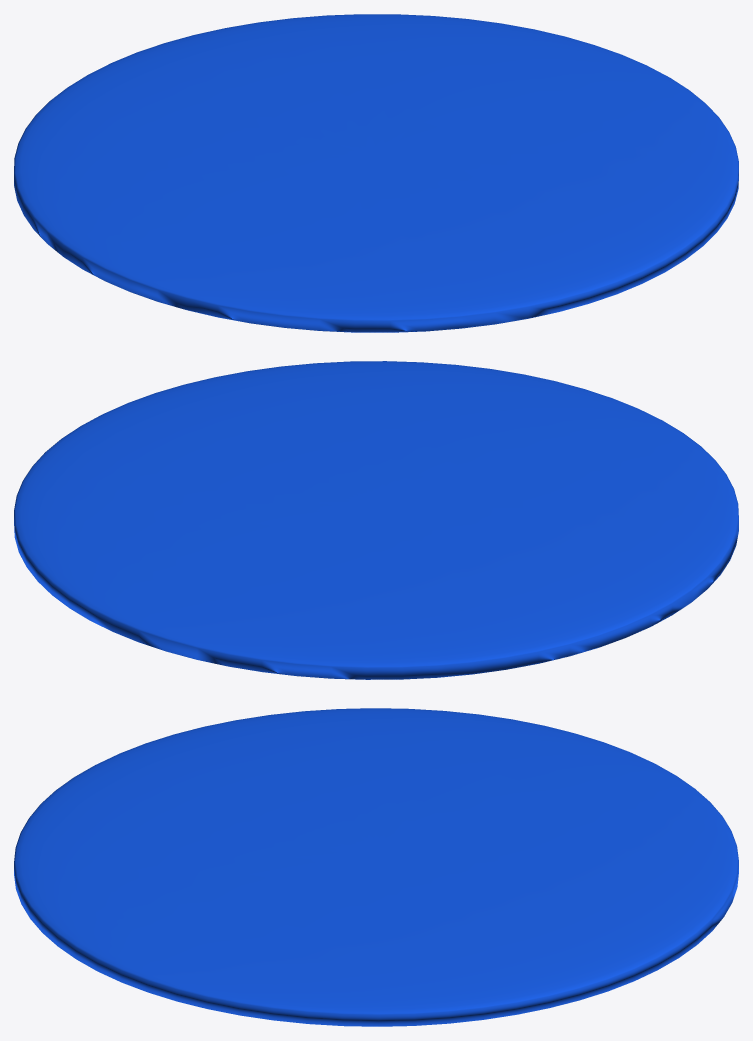
File: water.glb
3 views of the same model, one above another, from view 1: azimuth 30°, elevation 25°; view 2: azimuth 150°, elevation 25°; view 3: azimuth 270°, elevation 25° (orthographic).
Parts seen in each view (by area): view 1: Sphere.013; view 2: Sphere.013; view 3: Sphere.013.
Boxes of the visible parts, x1,y1,x2,y2 form: Sphere.013: (14,14,738,332); Sphere.013: (14,361,738,679); Sphere.013: (14,708,738,1026).
Size of the model in its own units: 5.84 by 0.2053 by 5.84.
